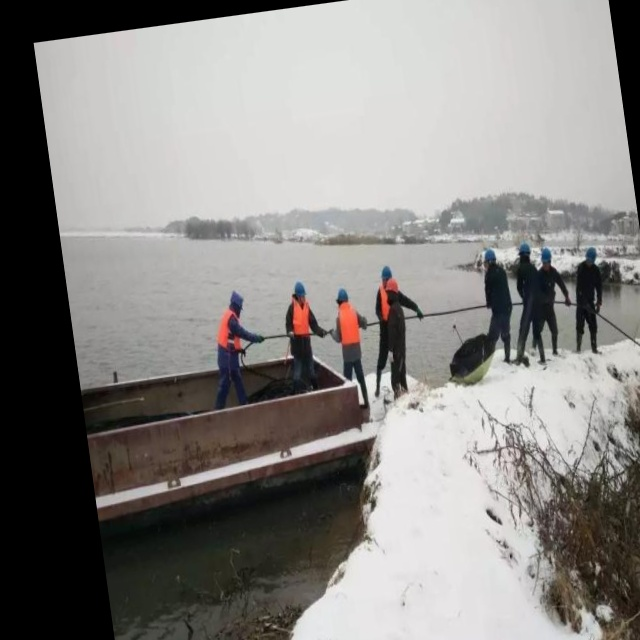Con_Casco: (292, 280, 309, 306), (333, 286, 350, 308), (538, 247, 553, 271)
